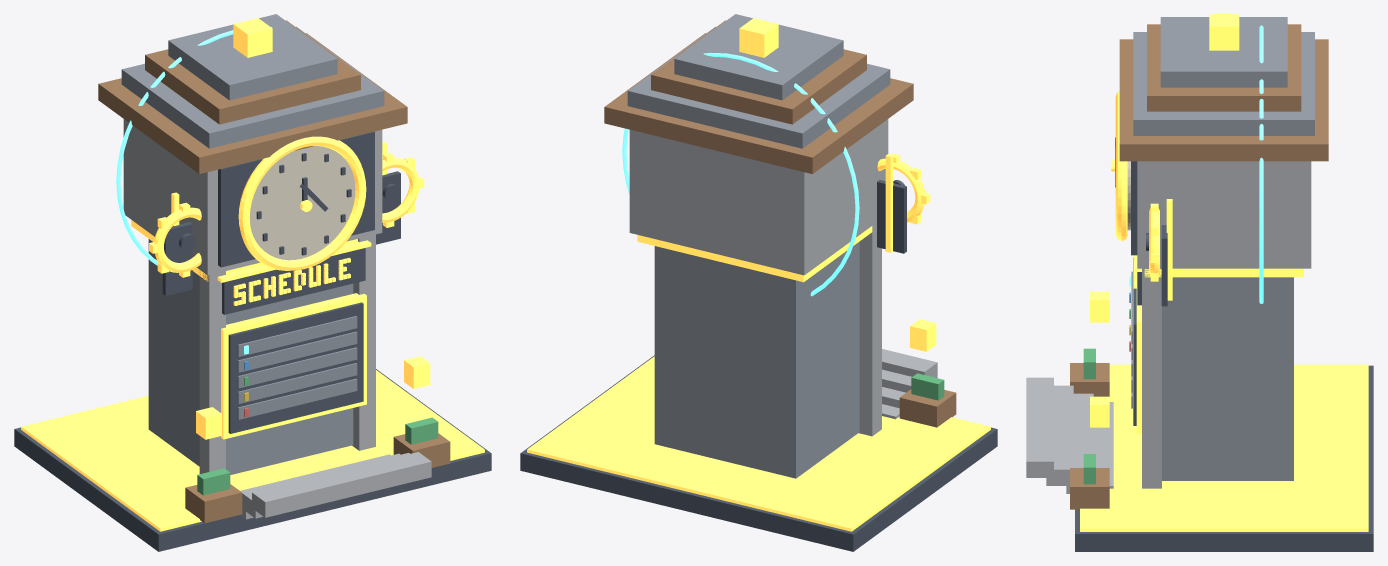
Rendered from gdg_schedule.glb.
The picture shows the model from 3 angles, left to right: view 1: azimuth 30°, elevation 25°; view 2: azimuth 150°, elevation 25°; view 3: azimuth 270°, elevation 25°; orthographic projection. The views are drawn at different scales.
Parts seen in each view (by area): view 1: base_gold, roof_tier (×2), tower, clock_house, clock_face, base, roof_tier_1, corner_pillar (×2), agenda_screen, roof_tier_2, entry_step, clock_panel (+15 smaller); view 2: tower, base_gold, clock_house, roof_tier (×2), base, roof_tier_1, roof_tier_2, corner_pillar, tower_belt, cyan_aura, planter, banner (+5 smaller); view 3: tower, base_gold, clock_house, roof_tier (×2), base, roof_tier_1, roof_tier_2, corner_pillar, entry_step (×2), planter (×2), entry_step_2, entry_step_1 (+11 smaller).
Boxes of the visible parts, x1,y1,x2,y2 form: base_gold: (21, 370, 484, 531); roof_tier (×2): (98, 14, 407, 173); tower: (148, 239, 353, 474); clock_house: (123, 119, 382, 275); clock_face: (249, 146, 355, 260); base: (14, 369, 491, 551); roof_tier_1: (121, 26, 384, 148); corner_pillar (×2): (199, 234, 375, 473); agenda_screen: (228, 302, 363, 433); roof_tier_2: (145, 20, 360, 124); entry_step: (252, 452, 431, 517); clock_panel: (218, 131, 374, 267); tower: (654, 241, 859, 478); base_gold: (527, 356, 990, 531); clock_house: (629, 119, 888, 275); roof_tier (×2): (604, 14, 913, 173); base: (520, 355, 997, 551); roof_tier_1: (627, 26, 890, 148); roof_tier_2: (651, 20, 866, 124); corner_pillar: (859, 222, 881, 436); tower_belt: (637, 226, 872, 282); cyan_aura: (622, 52, 859, 296); planter: (899, 389, 956, 427); banner: (877, 180, 906, 253); tower: (1162, 277, 1293, 480); base_gold: (1080, 364, 1368, 531); clock_house: (1137, 161, 1311, 268); roof_tier (×2): (1119, 17, 1328, 161); base: (1075, 365, 1373, 551); roof_tier_1: (1133, 32, 1314, 135); roof_tier_2: (1147, 24, 1301, 111); corner_pillar: (1142, 268, 1161, 488); entry_step (×2): (1026, 377, 1113, 488); planter (×2): (1070, 363, 1109, 509); entry_step_2: (1046, 385, 1073, 485); entry_step_1: (1066, 393, 1093, 493).
Size of the model in its own units: 8 by 9.93 by 6.97.
